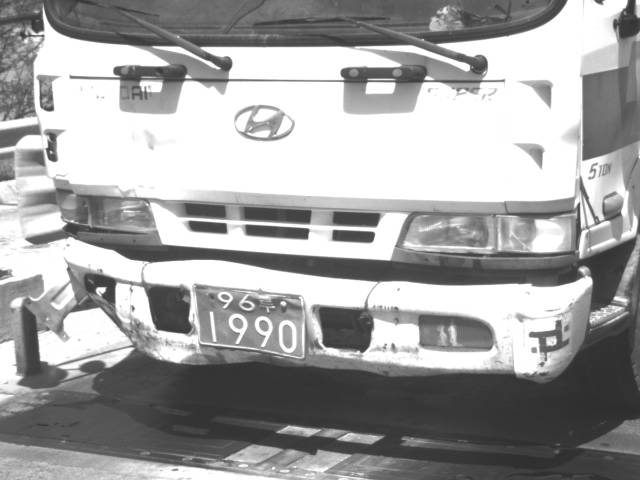car: (16, 1, 639, 404)
plate: (193, 282, 308, 360)
